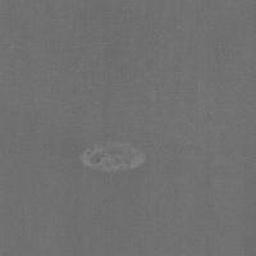Inclusion: (76, 140, 148, 175)
